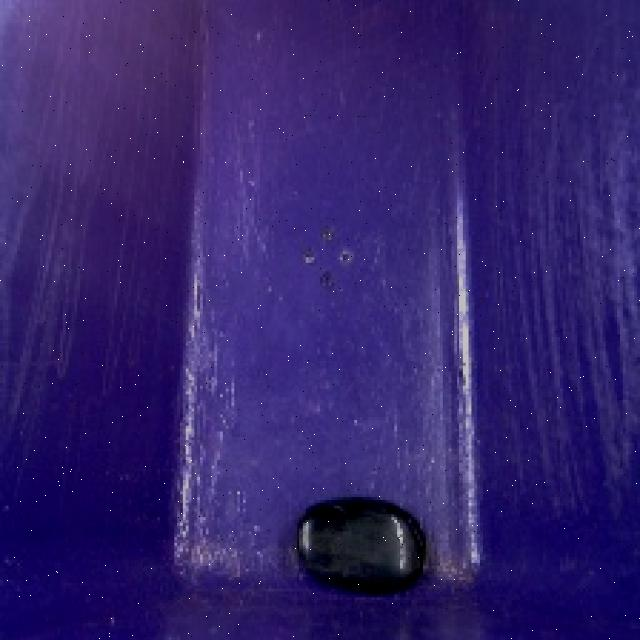cobbles: (282, 483, 440, 600)
